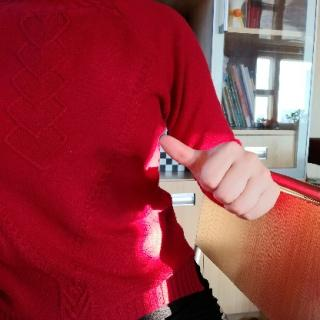ALIF: (157, 126, 282, 222)
